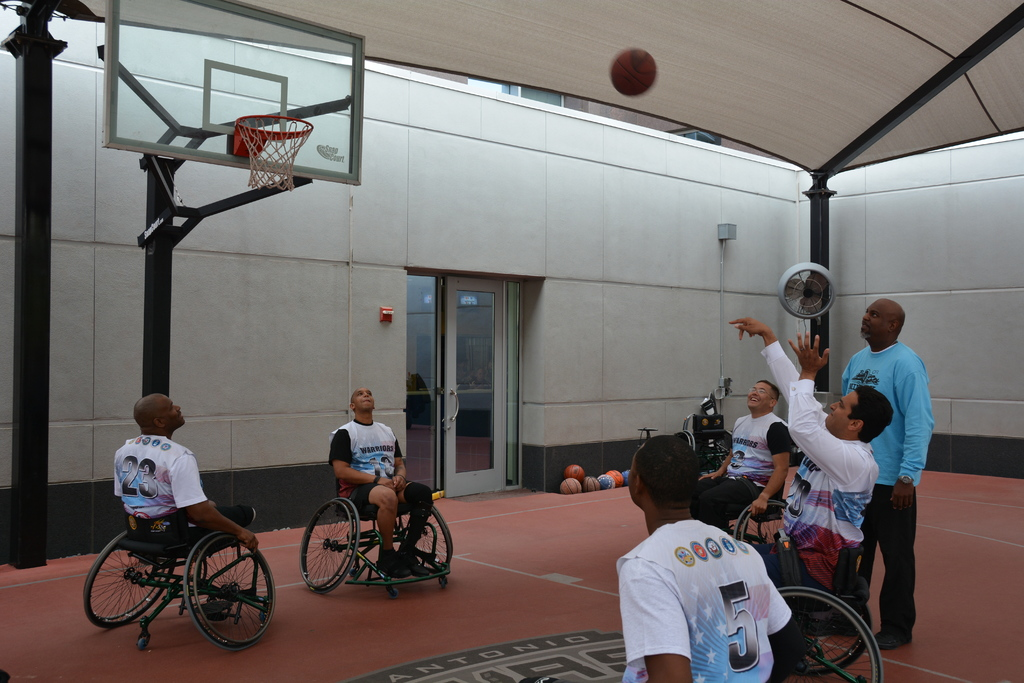Person: (728, 317, 893, 606), (616, 433, 806, 683), (833, 298, 935, 651), (111, 392, 256, 553), (328, 387, 430, 577), (687, 380, 796, 530)
